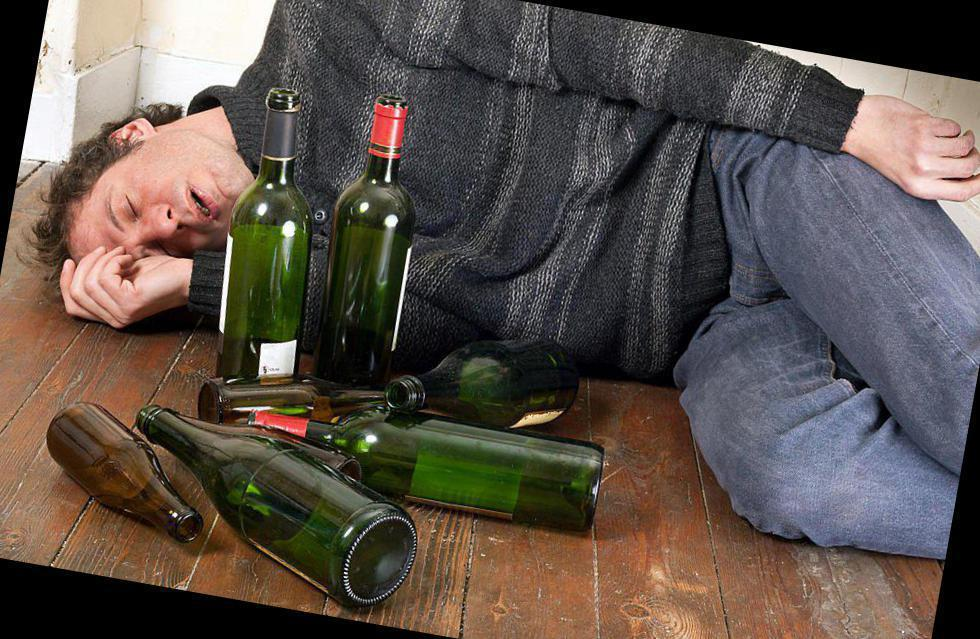Drunk: (69, 143, 247, 267)
